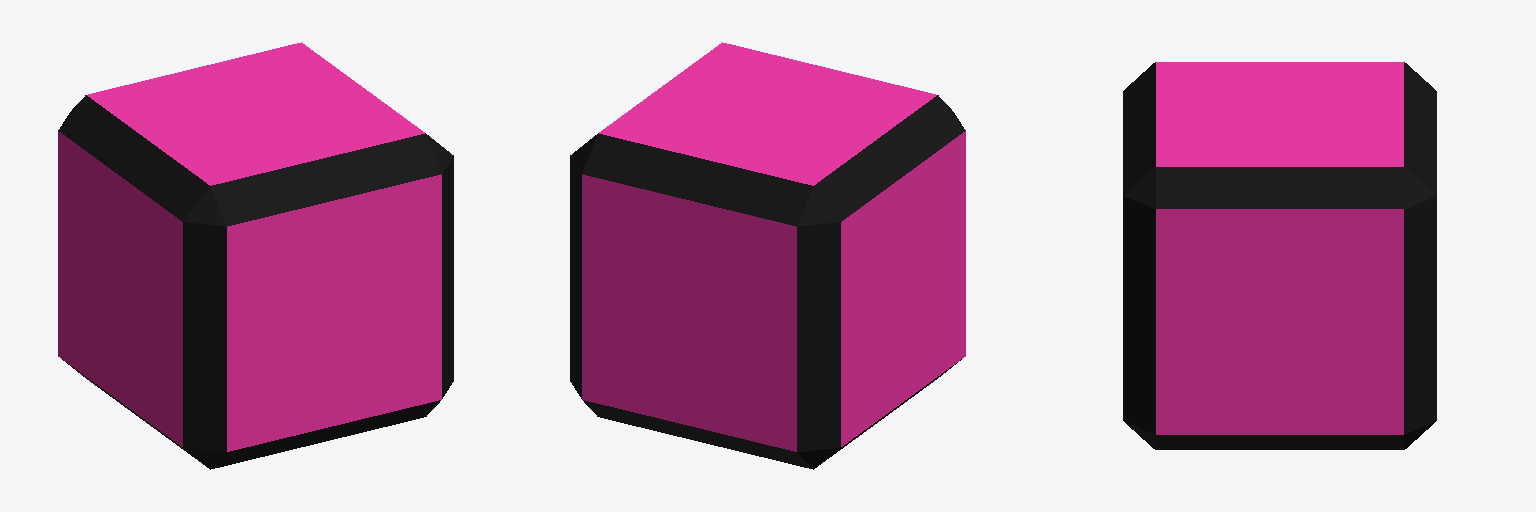
The picture shows the model from 3 angles: view 1: azimuth 30°, elevation 25°; view 2: azimuth 150°, elevation 25°; view 3: azimuth 270°, elevation 25°; orthographic projection.
Parts seen in each view (by area): view 1: EnemyBox_立方体.001; view 2: EnemyBox_立方体.001; view 3: EnemyBox_立方体.001.
Boxes of the visible parts, box(x1,y1,x2,y2) form: EnemyBox_立方体.001: box(58, 42, 453, 469); EnemyBox_立方体.001: box(570, 42, 965, 469); EnemyBox_立方体.001: box(1123, 62, 1436, 449).
Bounding box in the file's own units: 64 × 64 × 64.
Materials: 2 (2 with a texture image).